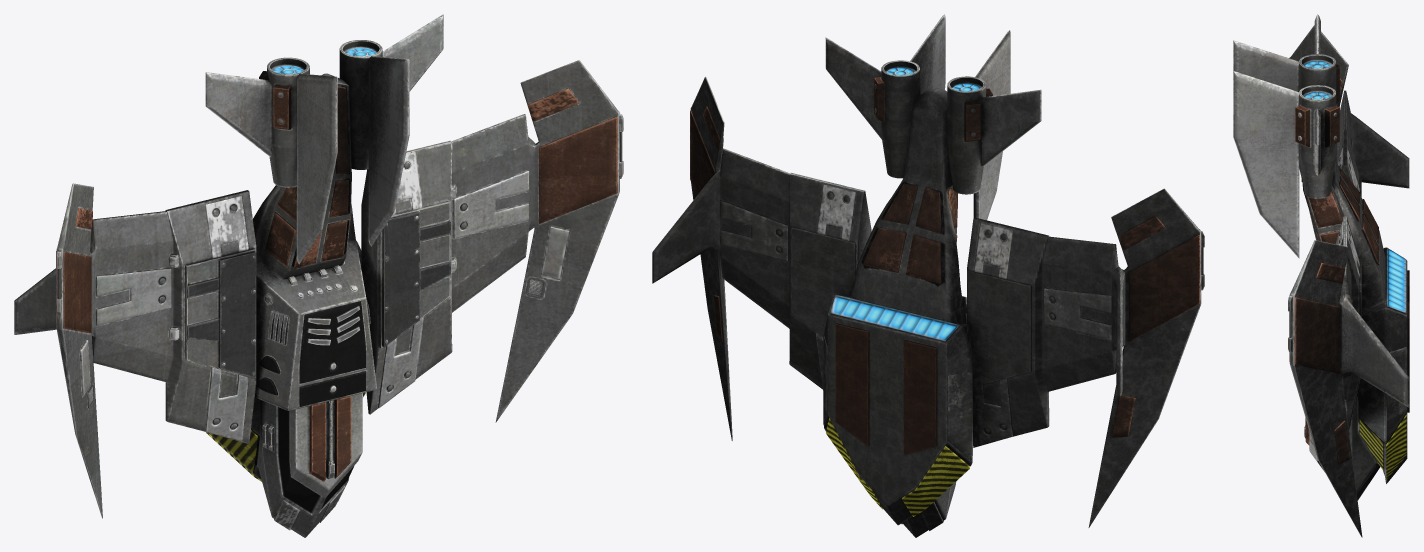
Rendered from 13898_Sci-Fi_Bomber_v1_l2.obj.
The picture shows the model from 3 angles, left to right: view 1: azimuth 30°, elevation 25°; view 2: azimuth 150°, elevation 25°; view 3: azimuth 270°, elevation 25°; orthographic projection. The views are drawn at different scales.
Parts seen in each view (by area): view 1: Sci_Fi_Bomber_wings, Sci_Fi_Bomber_body; view 2: Sci_Fi_Bomber_wings, Sci_Fi_Bomber_body; view 3: Sci_Fi_Bomber_body, Sci_Fi_Bomber_wings.
Boxes of the visible parts, bbox=[...] form: Sci_Fi_Bomber_wings: bbox=[14, 60, 623, 518]; Sci_Fi_Bomber_body: bbox=[205, 14, 443, 537]; Sci_Fi_Bomber_wings: bbox=[652, 76, 1204, 527]; Sci_Fi_Bomber_body: bbox=[823, 14, 1041, 537]; Sci_Fi_Bomber_body: bbox=[1233, 14, 1409, 500]; Sci_Fi_Bomber_wings: bbox=[1288, 25, 1409, 537].
Bounding box in the file's own units: 11810 × 10346 × 3648.
2 materials, 2 textured.
